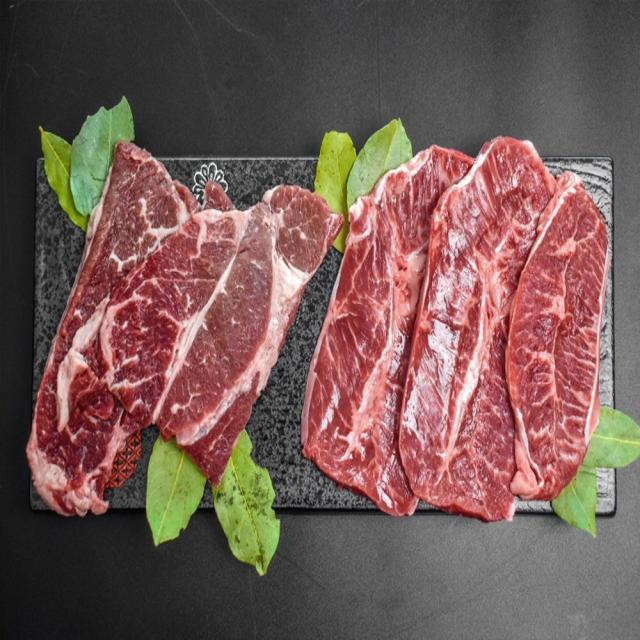beef: (360, 207, 586, 468), (98, 198, 292, 444)
